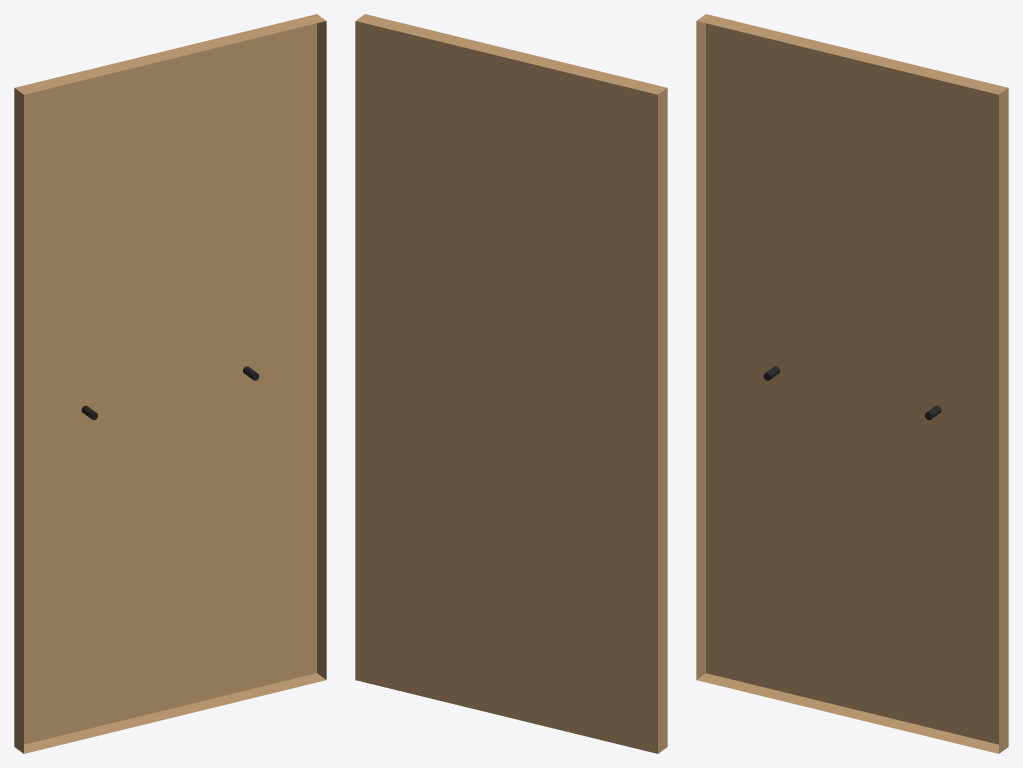
Rendered from playfield.glb.
3 views of the same model, side by side, from view 1: azimuth 30°, elevation 25°; view 2: azimuth 150°, elevation 25°; view 3: azimuth 330°, elevation 25° (orthographic).
Parts seen in each view (by area): view 1: floor, walls[0]; view 2: floor, walls[0]; view 3: floor, walls[0].
Boxes of the visible parts, x1,y1,x2,y2 form: floor: (24, 23, 316, 744); walls[0]: (14, 14, 326, 753); floor: (355, 21, 657, 753); walls[0]: (356, 14, 667, 753); floor: (706, 23, 998, 744); walls[0]: (696, 14, 1008, 753).
Bounding box in the file's own units: 0.514 × 1.07 × 0.028.
